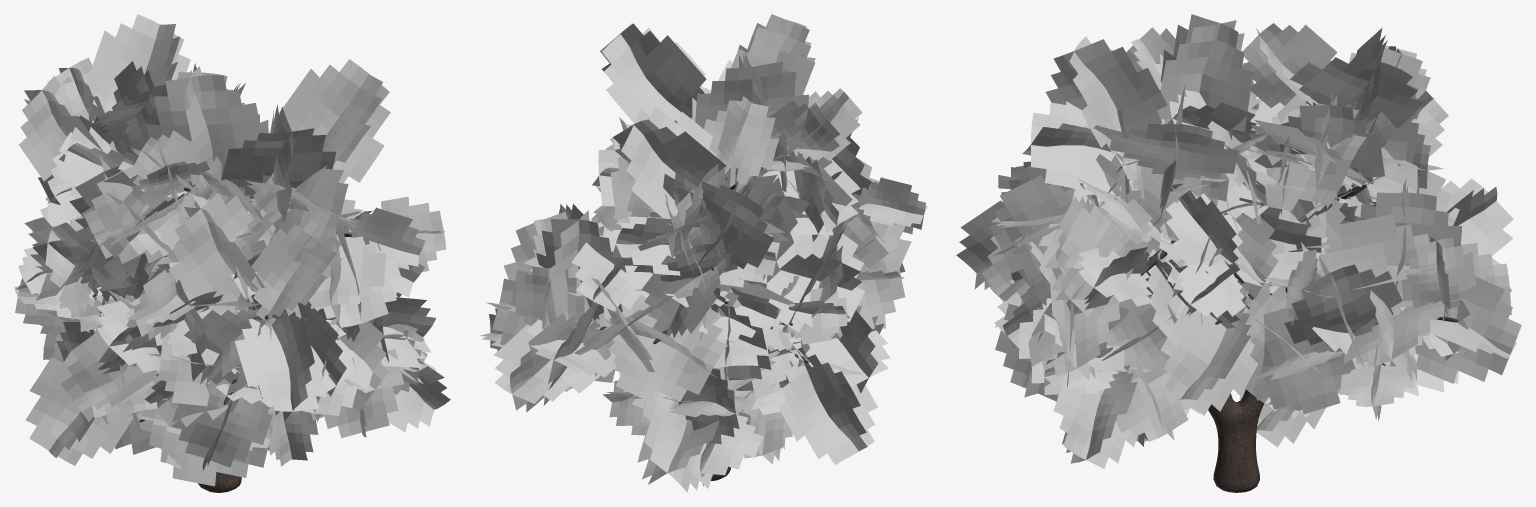
File: Oak Tree mesh.fbx
3 renders of one model, left to right at view 1: azimuth 30°, elevation 25°; view 2: azimuth 150°, elevation 25°; view 3: azimuth 270°, elevation 25°, orthographic. The views are drawn at different scales.
Visible parts, largest first — view 1: Oak tree; view 2: Oak tree; view 3: Oak tree.
Boxes of the visible parts, x1,y1,x2,y2 form: Oak tree: [14, 14, 450, 492]; Oak tree: [480, 14, 927, 492]; Oak tree: [956, 14, 1521, 492].
Bounding box in the file's own units: 1511 × 1817 × 2060.
